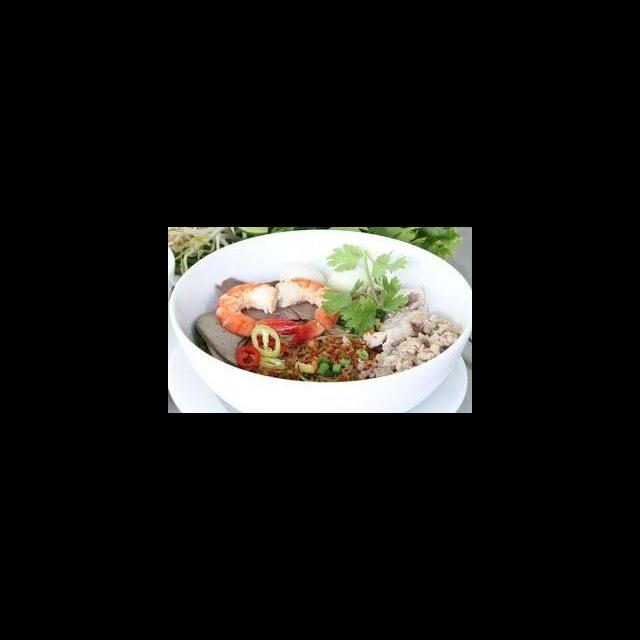gan: (212, 275, 302, 324), (192, 307, 252, 368), (265, 275, 323, 322)
thit bam: (354, 311, 464, 383)
thit heo: (360, 305, 432, 350), (348, 282, 428, 318)
tom: (214, 280, 313, 339), (269, 275, 342, 348)
trung: (325, 264, 372, 297), (277, 261, 327, 288)
